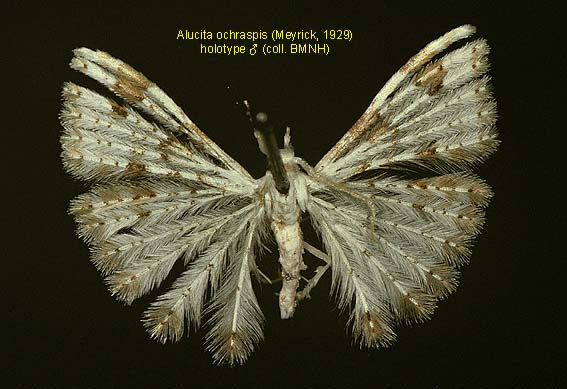Alucitidae: (55, 25, 505, 361)
moth: (57, 25, 507, 361)
